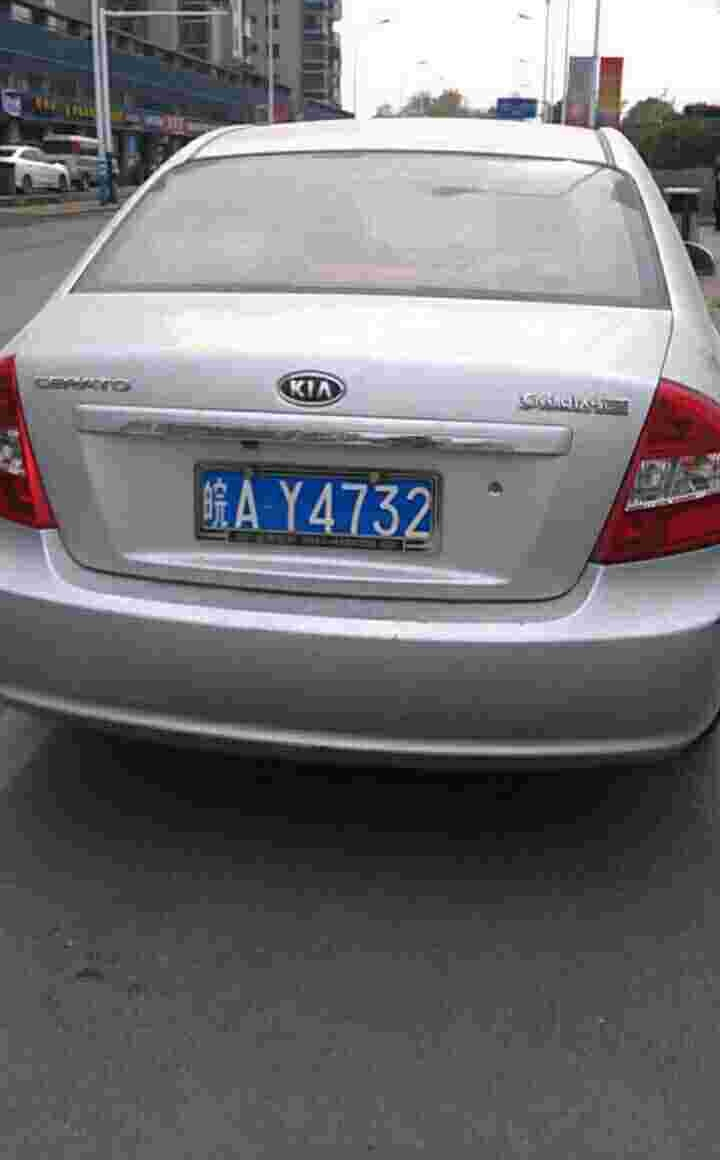license_plate: (208, 467, 426, 544)
